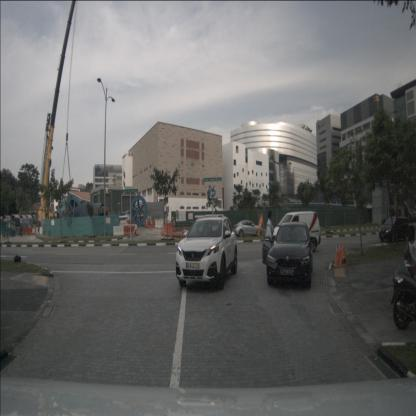human-pedestrian-adult: (264, 210, 274, 270), (20, 221, 23, 237), (38, 222, 40, 235)
movable_object-barrier: (113, 226, 124, 236), (163, 223, 173, 233), (124, 226, 133, 235), (155, 220, 164, 229), (29, 227, 36, 235), (36, 226, 42, 235), (23, 228, 29, 235), (145, 220, 150, 228), (152, 220, 155, 227)
movable_object-trafficcone: (333, 243, 340, 268), (341, 244, 348, 268), (339, 243, 343, 266), (338, 243, 342, 261), (160, 225, 163, 236), (4, 232, 8, 240), (138, 226, 141, 235)
vehicle-car: (176, 215, 238, 290), (262, 221, 313, 290), (271, 211, 321, 253), (379, 216, 408, 243), (233, 220, 264, 238)
vehicle-motorcycle: (391, 258, 415, 331)
